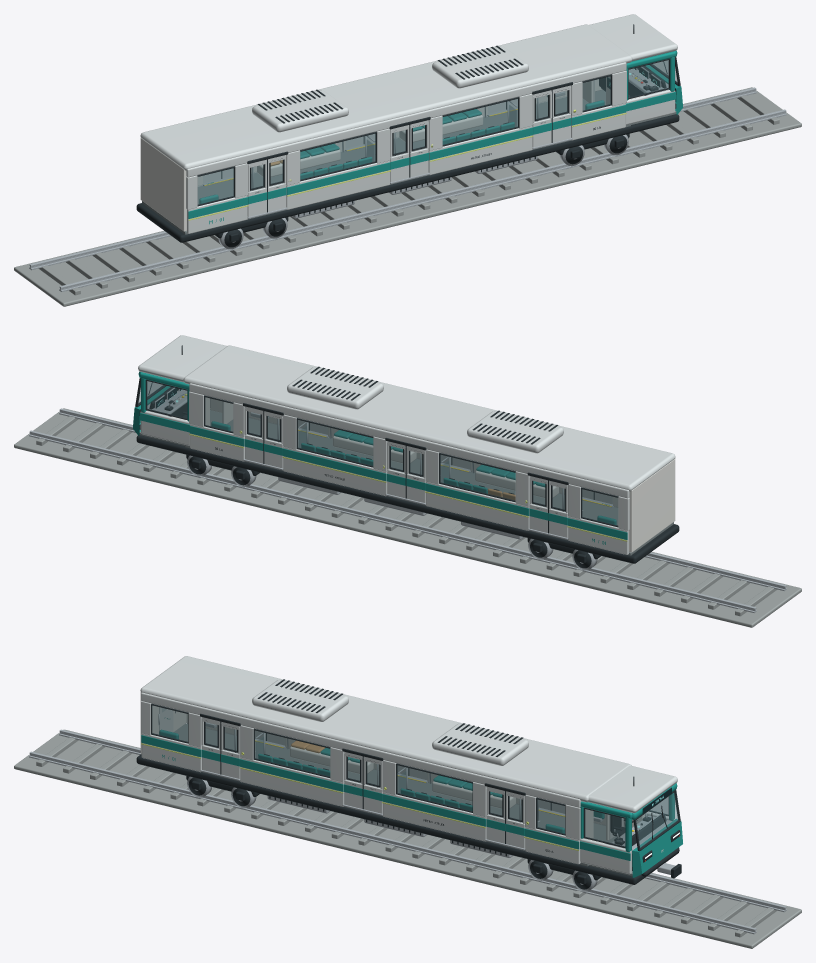
File: metro.glb
3 views of the same model, one above another, from view 1: azimuth 30°, elevation 25°; view 2: azimuth 150°, elevation 25°; view 3: azimuth 330°, elevation 25° (orthographic).
Visible parts, largest first — view 1: Trackbed, Roof_shell, Main chassis, Shell_header, Passenger floor, Rear_bulkhead, Rail_head, HVAC_housing.001, HVAC_housing, Cab_roof, Passenger_window_Glass.001, Passenger_window_Glass.002 (+16 smaller); view 2: Trackbed, Roof_shell, Main chassis, Shell_header.001, Passenger floor, Rear_bulkhead, Rail_head.001, HVAC_housing.001, HVAC_housing, Cab_roof, Passenger_window_Glass.005, Passenger_window_Glass.006 (+16 smaller); view 3: Trackbed, Roof_shell, Main chassis, Shell_header, Passenger floor, Cab_roof, Rail_head, HVAC_housing, HVAC_housing.001, Passenger_window_Glass.001, Passenger_window_Glass.002, Shell_lower_panel.001 (+18 smaller).
Part boxes in pixels (x1,y1,x2,y2): Trackbed: (14, 87, 801, 306); Roof_shell: (140, 24, 632, 170); Main chassis: (136, 114, 679, 242); Shell_header: (186, 62, 626, 177); Passenger floor: (142, 97, 630, 234); Rear_bulkhead: (140, 138, 186, 231); Rail_head: (59, 109, 786, 288); HVAC_housing.001: (432, 46, 528, 88); HVAC_housing: (252, 90, 348, 132); Cab_roof: (589, 14, 677, 61); Passenger_window_Glass.001: (300, 133, 375, 179); Passenger_window_Glass.002: (442, 99, 517, 144); Trackbed: (14, 408, 801, 627); Roof_shell: (183, 345, 675, 491); Main chassis: (136, 435, 679, 563); Shell_header.001: (189, 383, 629, 498); Passenger floor: (185, 418, 673, 555); Rear_bulkhead: (629, 459, 675, 552); Rail_head.001: (29, 430, 756, 609); HVAC_housing.001: (287, 367, 383, 409); HVAC_housing: (467, 411, 563, 453); Cab_roof: (138, 335, 226, 382); Passenger_window_Glass.005: (440, 454, 515, 500); Passenger_window_Glass.006: (298, 420, 373, 465); Trackbed: (14, 729, 801, 948); Roof_shell: (140, 656, 631, 802); Main chassis: (136, 754, 679, 884); Shell_header: (141, 692, 580, 807); Passenger floor: (174, 724, 605, 866); Cab_roof: (588, 765, 677, 813); Rail_head: (29, 751, 756, 930); HVAC_housing: (252, 679, 348, 721); HVAC_housing.001: (432, 723, 528, 765); Passenger_window_Glass.001: (255, 730, 330, 776); Passenger_window_Glass.002: (397, 765, 472, 811); Shell_lower_panel.001: (240, 757, 344, 806).
Size of the model in its own units: 27.5 by 4.25 by 3.23.
